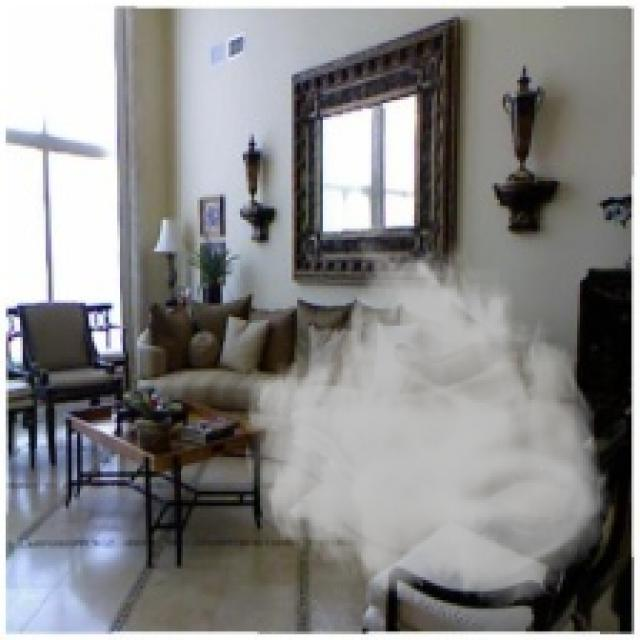Smoke: (240, 232, 614, 612)
